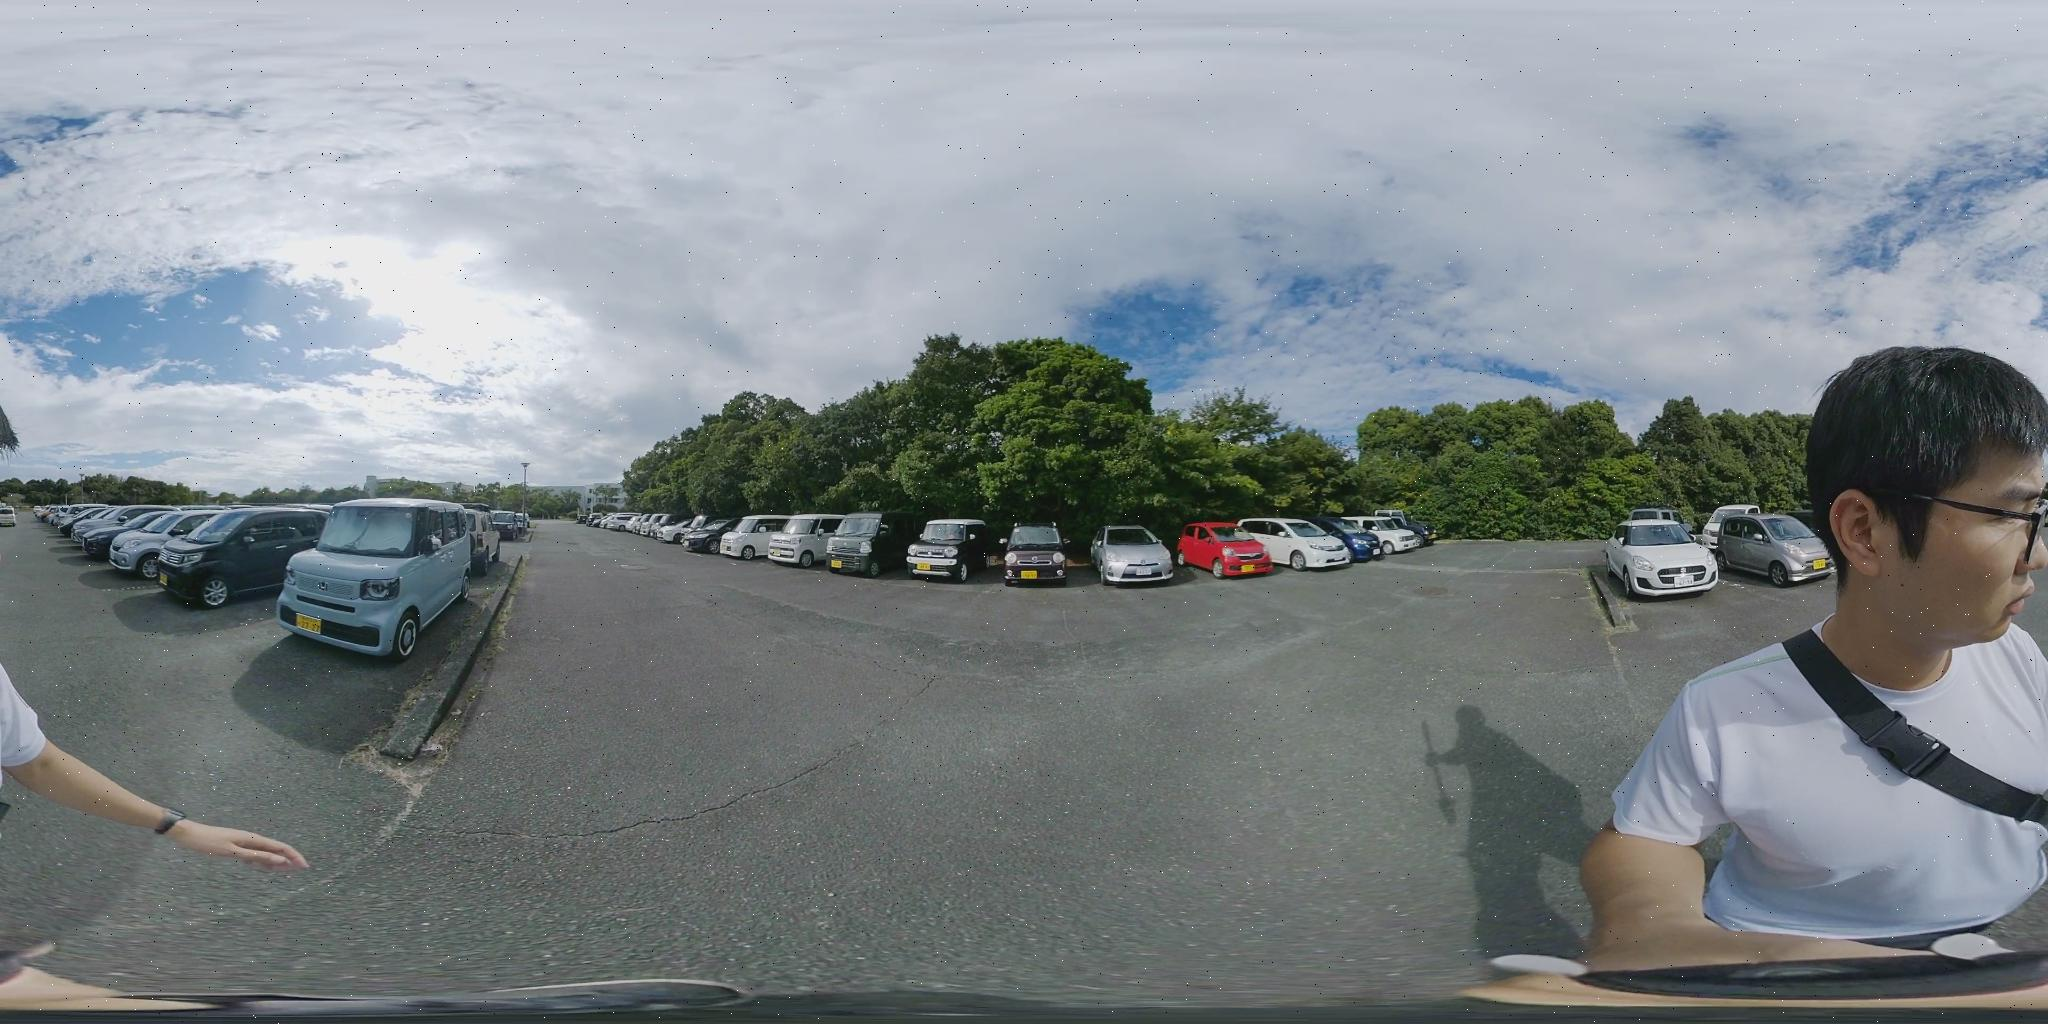car: (148, 511, 333, 609), (1608, 509, 1724, 601), (1706, 508, 1838, 588), (104, 508, 239, 573), (1233, 516, 1357, 572), (1177, 522, 1281, 580), (1088, 525, 1176, 585), (832, 515, 913, 569), (912, 521, 984, 579), (1344, 509, 1432, 555), (713, 516, 795, 563), (1006, 525, 1067, 581), (776, 517, 842, 564), (487, 512, 534, 542)
